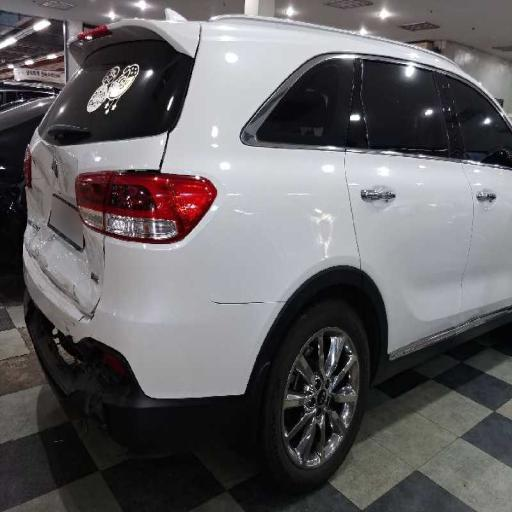broken: (205, 282, 297, 338)
dent: (21, 140, 129, 319)
